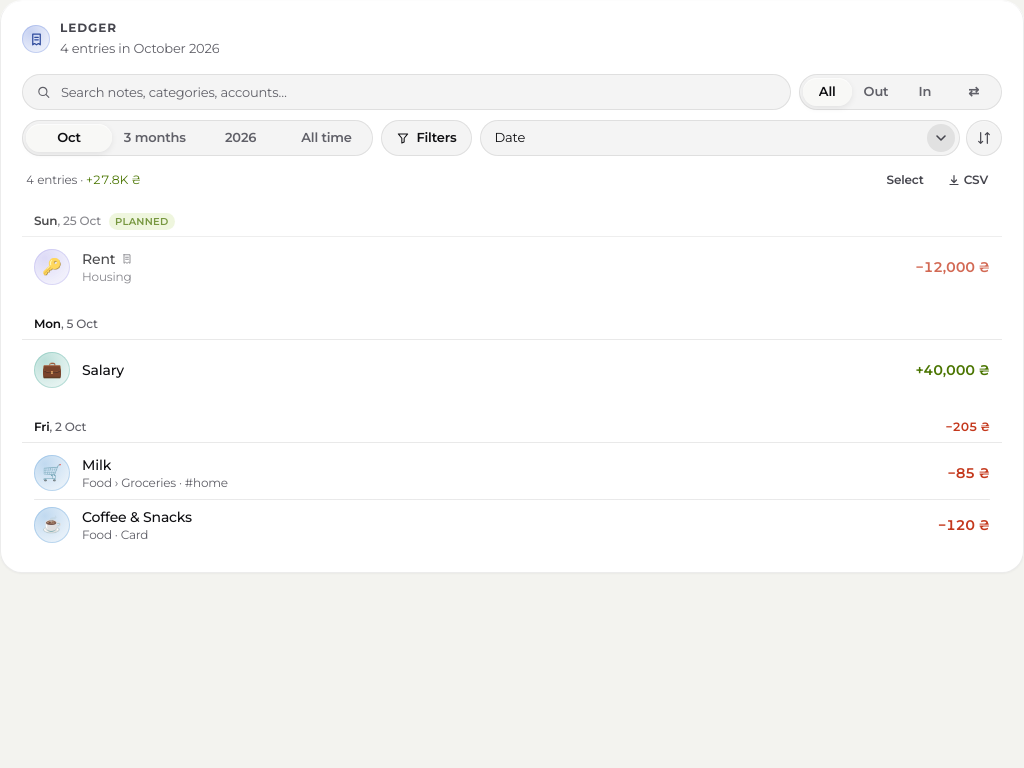
Test: LedgerCard › searches every month and says when nothing matches
The image size is (1024, 768).
Click the radio button labelled "All time" at point(327, 137), box [301, 129, 352, 145]
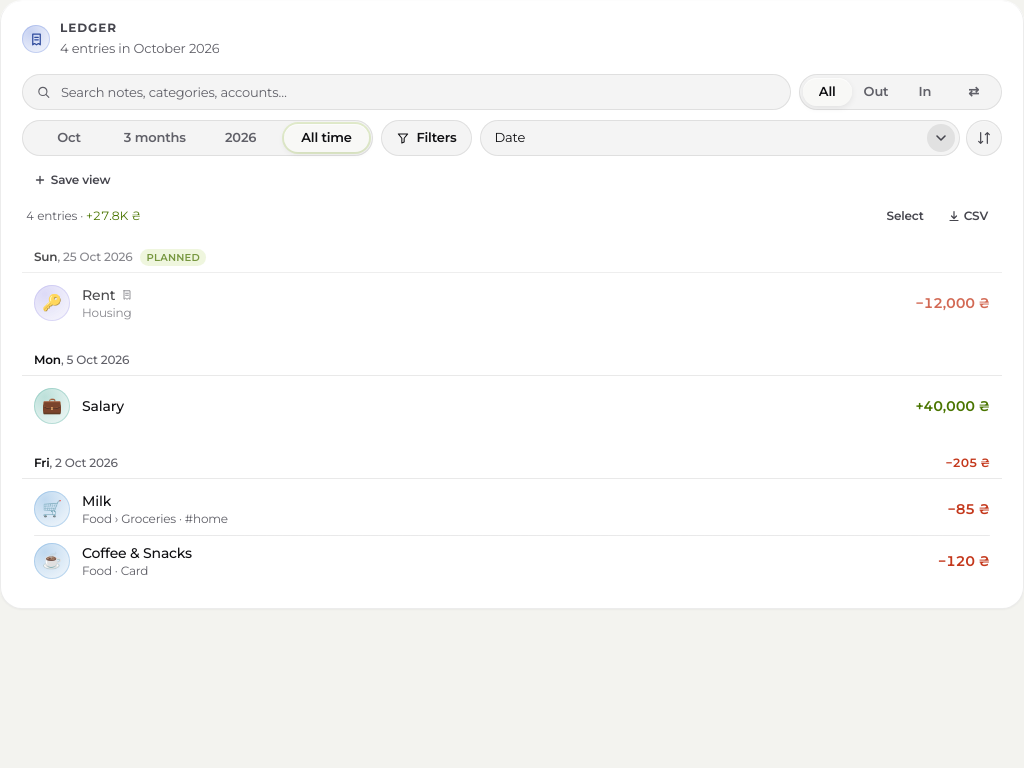
Type "card" into the search field with placeholder "Search notes, categories, accounts…" at point(406, 92), box [22, 74, 791, 110]
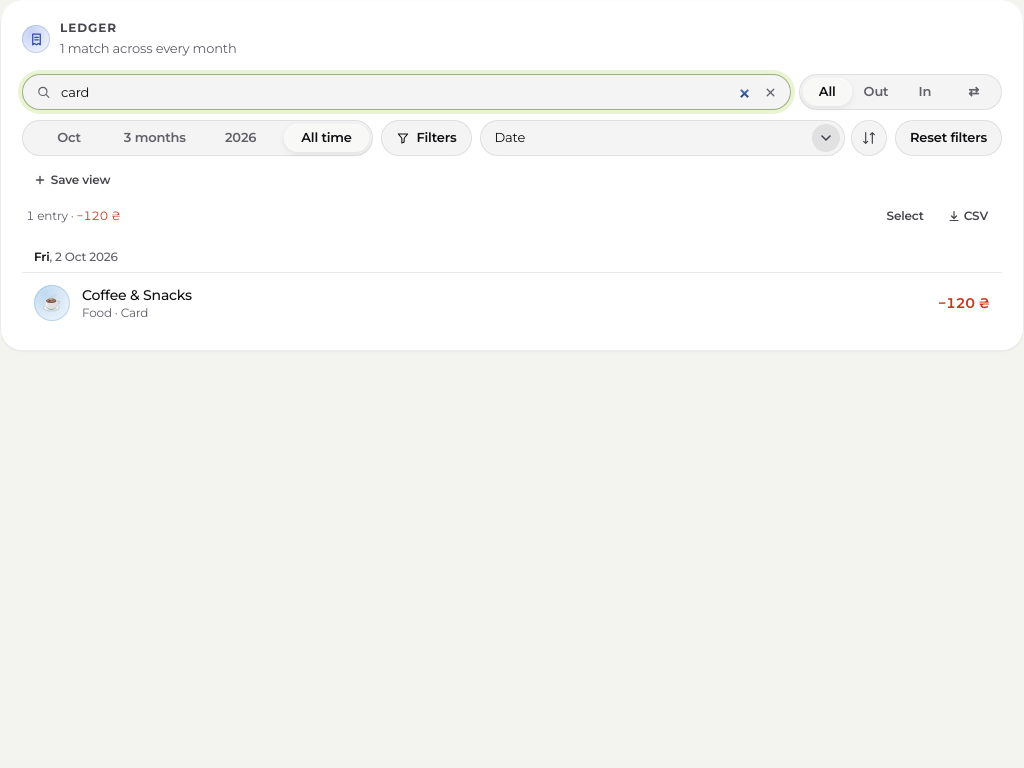
Now the text "1 match across every month" is shown, box [60, 39, 236, 58]
Type "zzz" into the search field with placeholder "Search notes, categories, accounts…" at point(406, 92), box [22, 74, 791, 110]
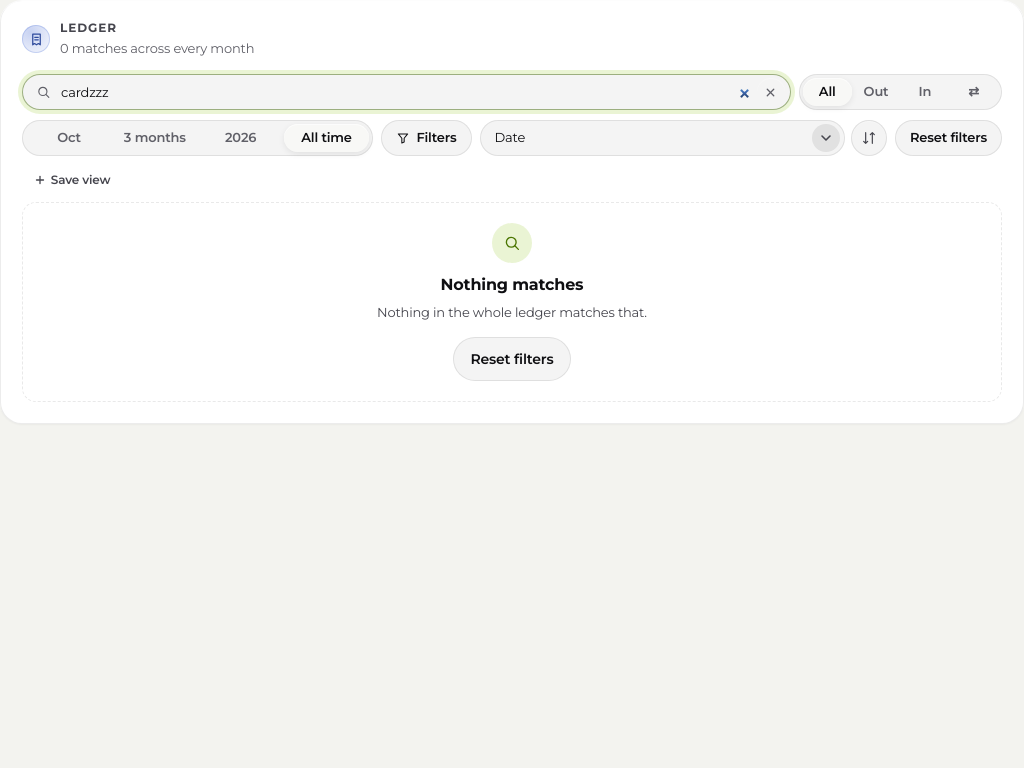
Now the text "Nothing in the whole ledger matches that." is shown, box [377, 303, 647, 322]
